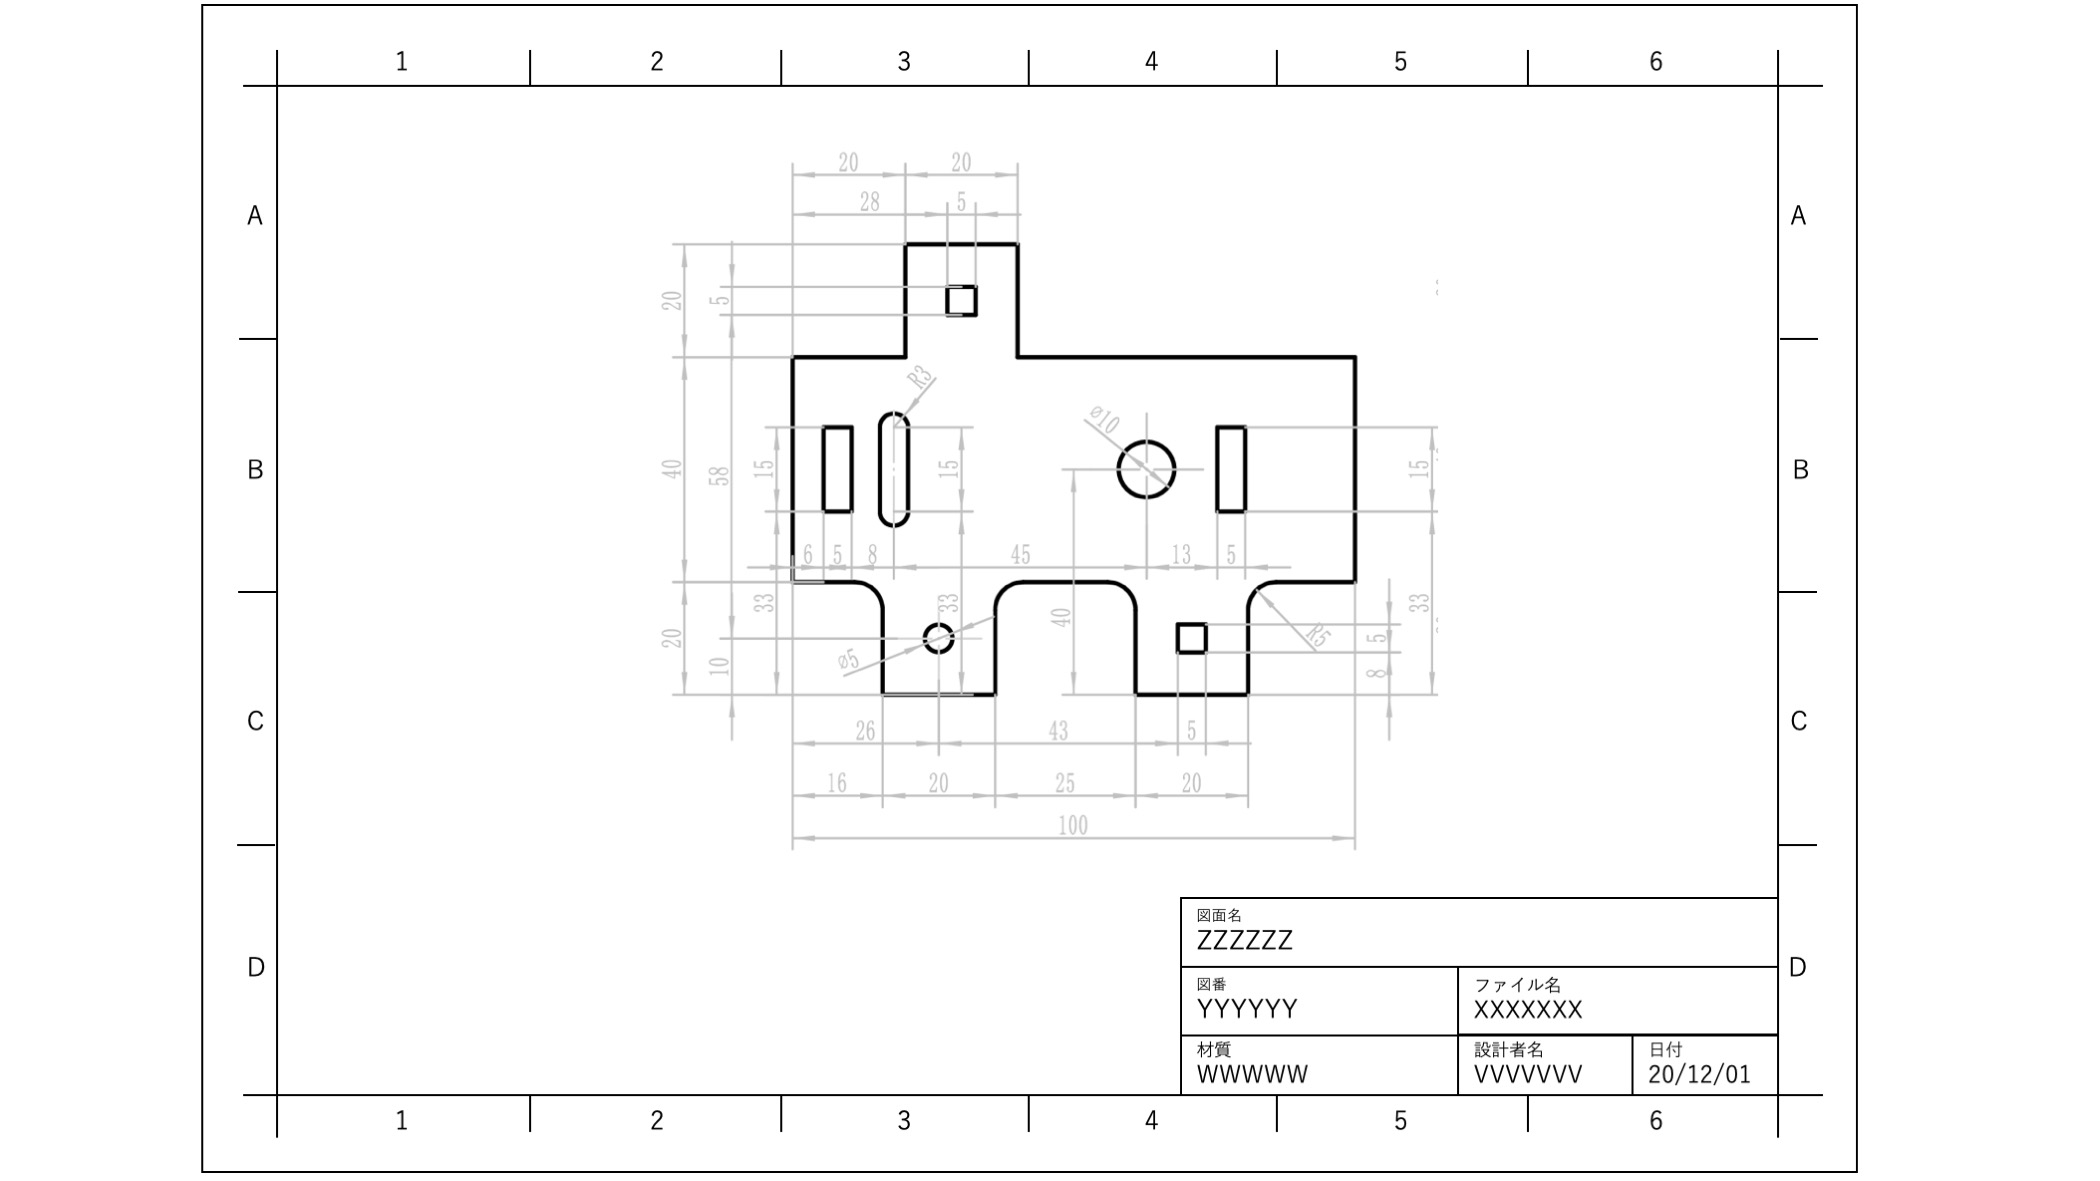circle: (1111, 428, 1178, 500), (919, 613, 963, 665)
rectangle: (1204, 410, 1258, 521), (815, 412, 855, 531), (1168, 607, 1213, 665), (935, 273, 982, 323)
round_rectangle: (868, 398, 922, 536)
